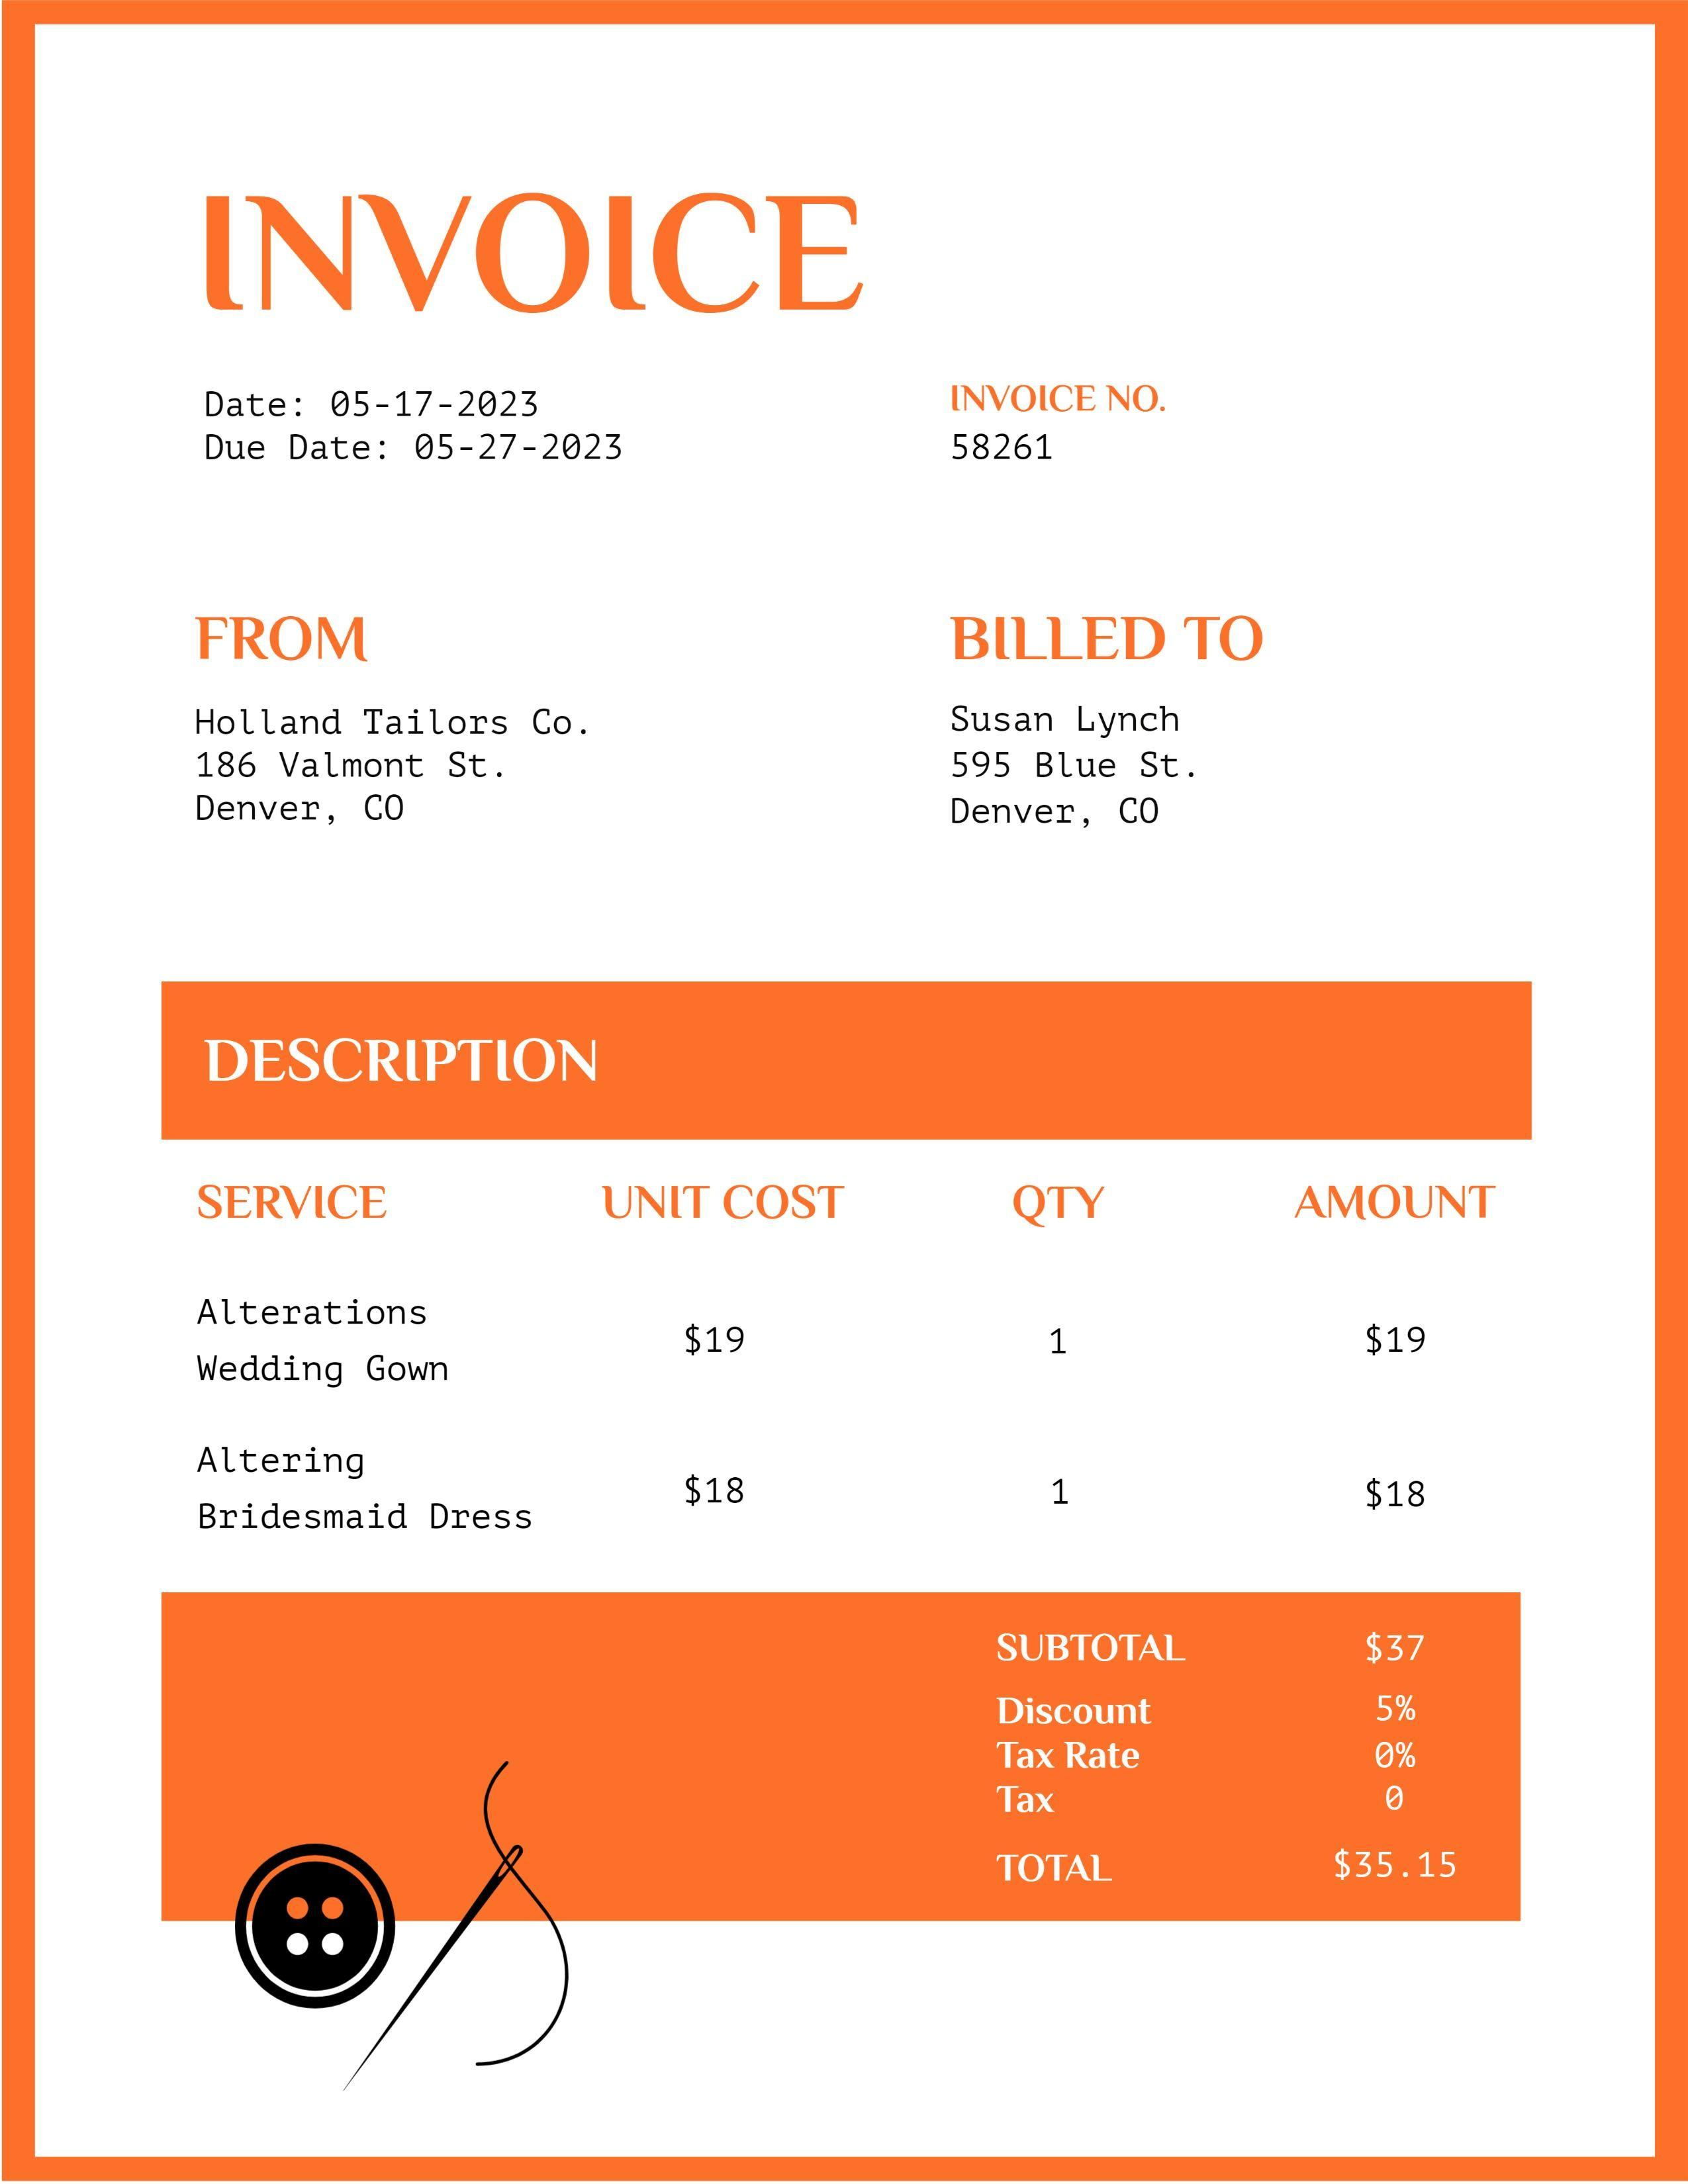ROI: (165, 993, 1506, 1578), (990, 1621, 1466, 1899), (189, 599, 599, 847), (927, 599, 1321, 837), (202, 381, 1162, 470)
